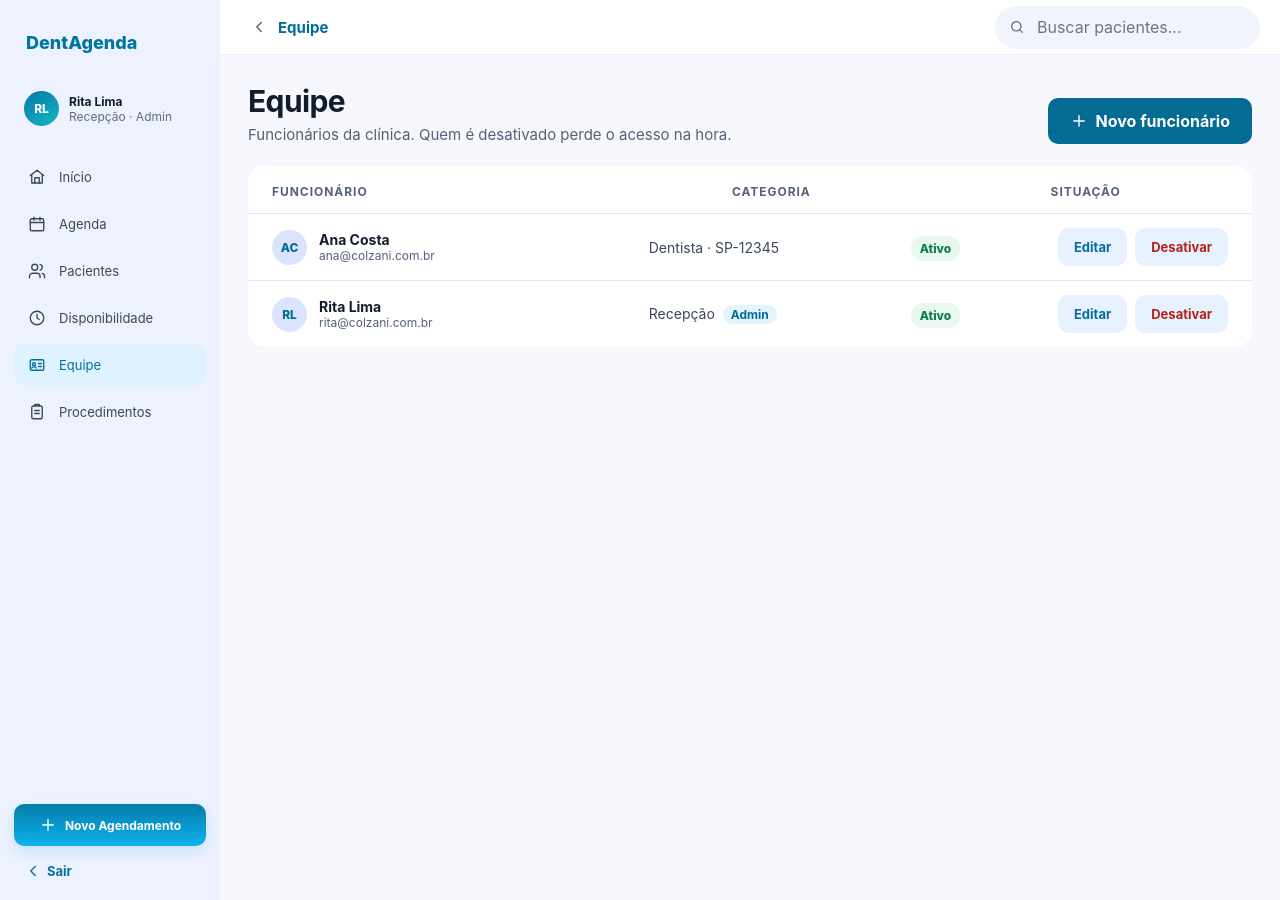
Scenario: Equipe (D37, só admin) › desativar o último admin: a mensagem da API (ULTIMO_ADMIN) aparece e nada muda
This screenshot has width=1280, height=900.
Click the button with aria-label "Desativar Rita Lima".
click(1182, 314)  # box [1135,295,1228,333]
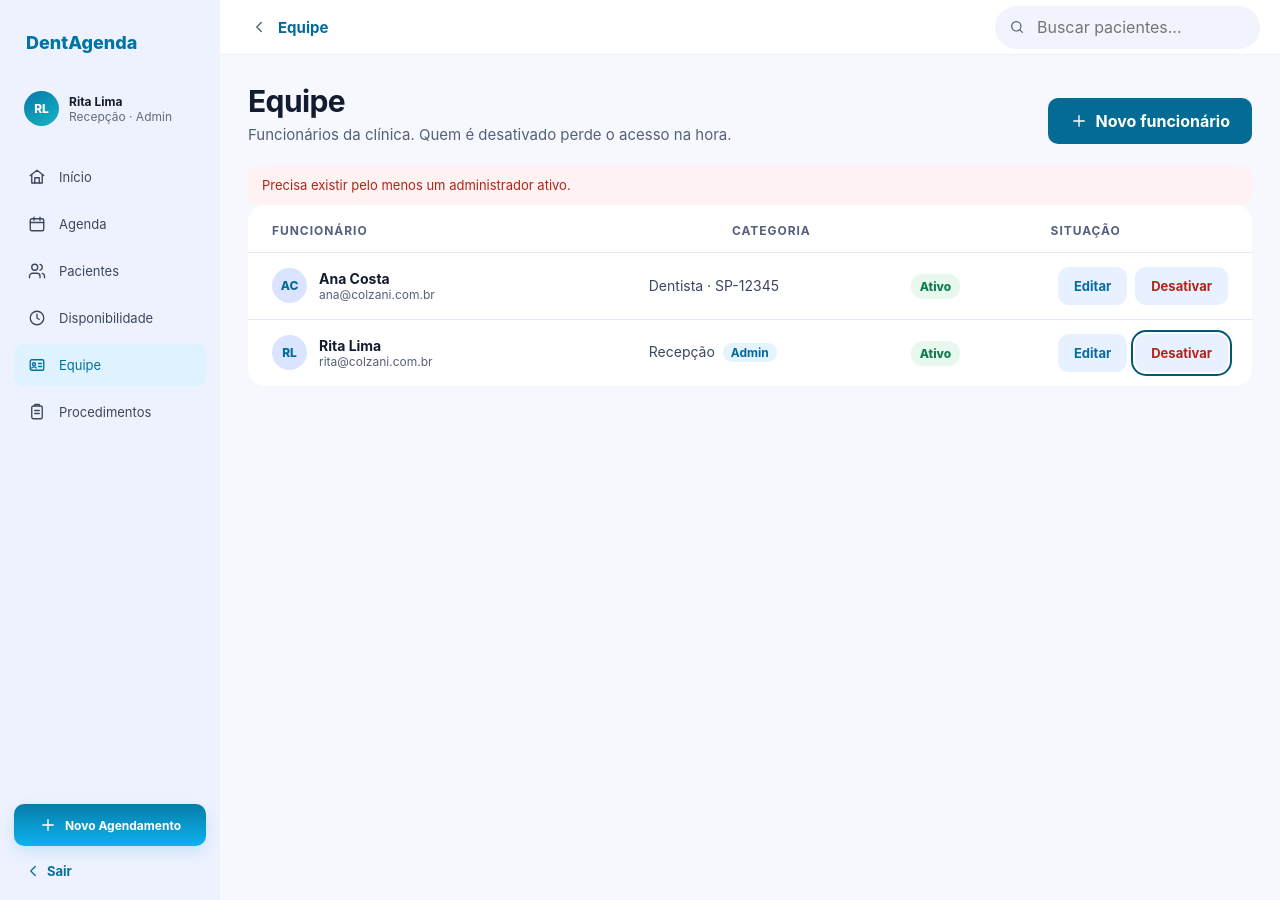
Check: the message reads "Precisa existir pelo menos um administrador ativo.", box [262,177,571,193]
